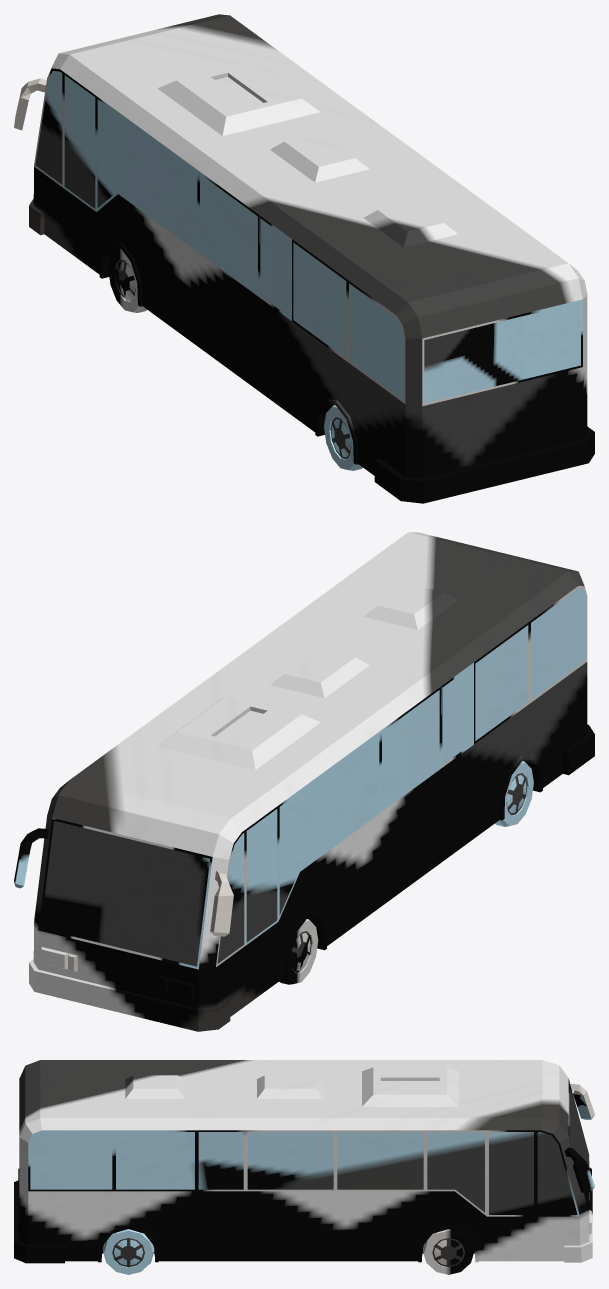
The model's file is citypack-bus-L2.glb.
3 views of the same model, one above another, from view 1: azimuth 30°, elevation 25°; view 2: azimuth 150°, elevation 25°; view 3: azimuth 270°, elevation 25° (orthographic). The views are drawn at different scales.
Visible parts, largest first — view 1: body; view 2: body; view 3: body.
Part boxes in pixels (x1=…): body: x1=14, y1=14, x2=594, y2=503; body: x1=14, y1=532, x2=594, y2=1031; body: x1=14, y1=1060, x2=594, y2=1274.
Size of the model in its own units: 50.06 by 48.81 by 157.
1 material, 1 textured.
